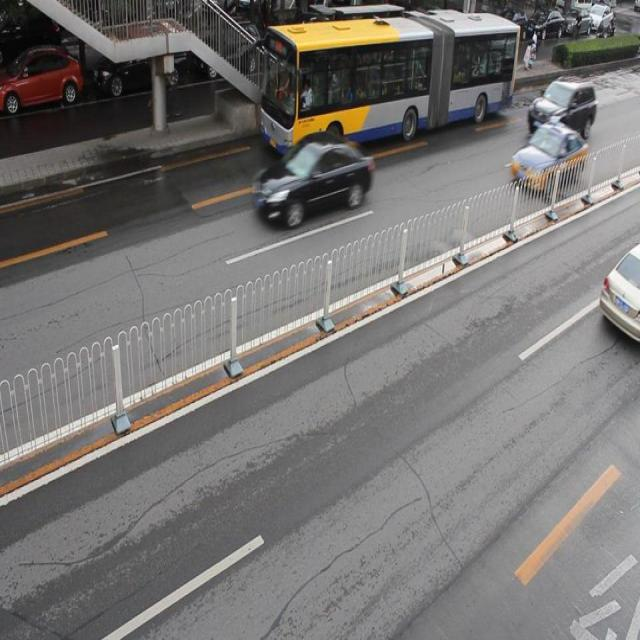car: (254, 130, 374, 227), (95, 34, 187, 95), (1, 47, 84, 113), (509, 122, 585, 192), (598, 240, 640, 341), (196, 17, 263, 78), (275, 16, 342, 68)
truck: (526, 73, 595, 140)
van: (262, 11, 517, 150)
